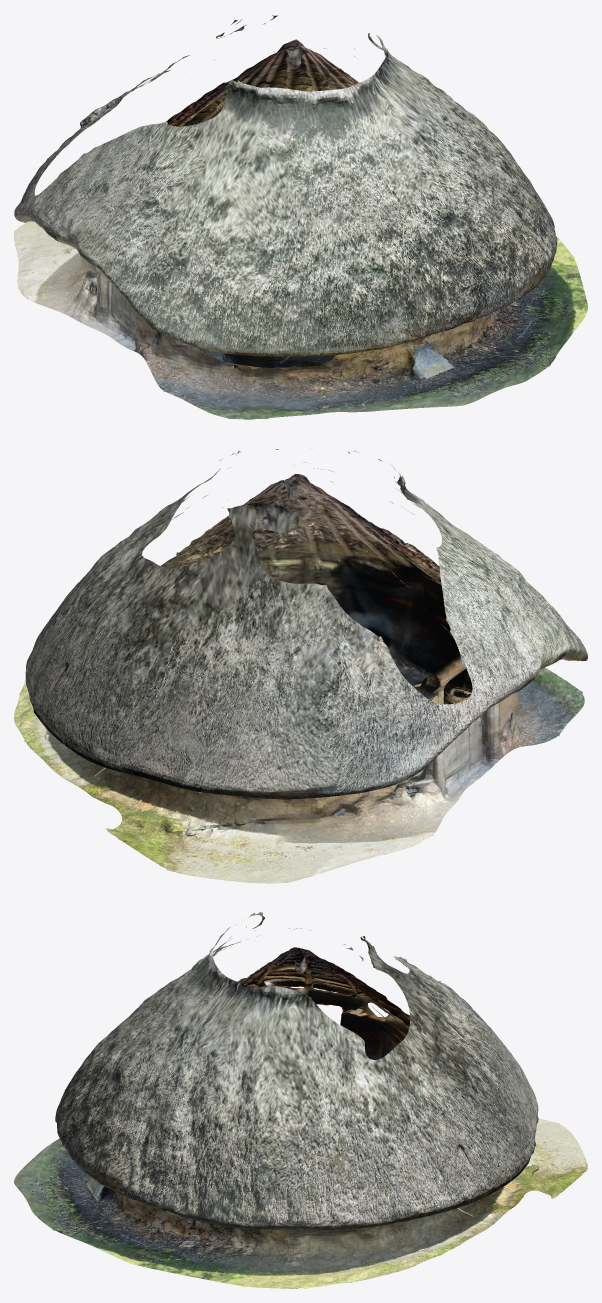
The model's file is SecondHouse.compressed.glb.
3 views of the same model, one above another, from view 1: azimuth 30°, elevation 25°; view 2: azimuth 150°, elevation 25°; view 3: azimuth 270°, elevation 25° (orthographic). The views are drawn at different scales.
Size of the model in its own units: 7.1 by 3.63 by 7.91.
3 materials, 3 textured.
